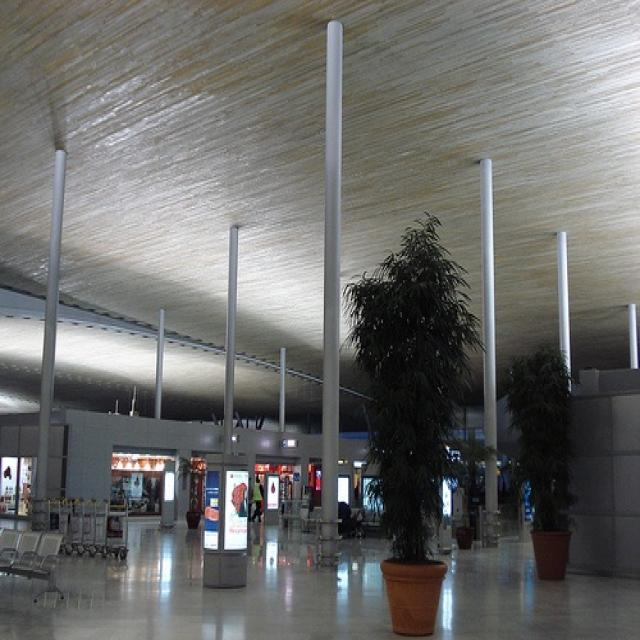pottedplant: (342, 214, 458, 634), (506, 342, 580, 586)
